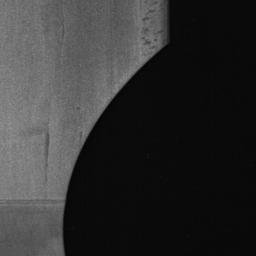Crescent gap: (62, 43, 166, 256)
